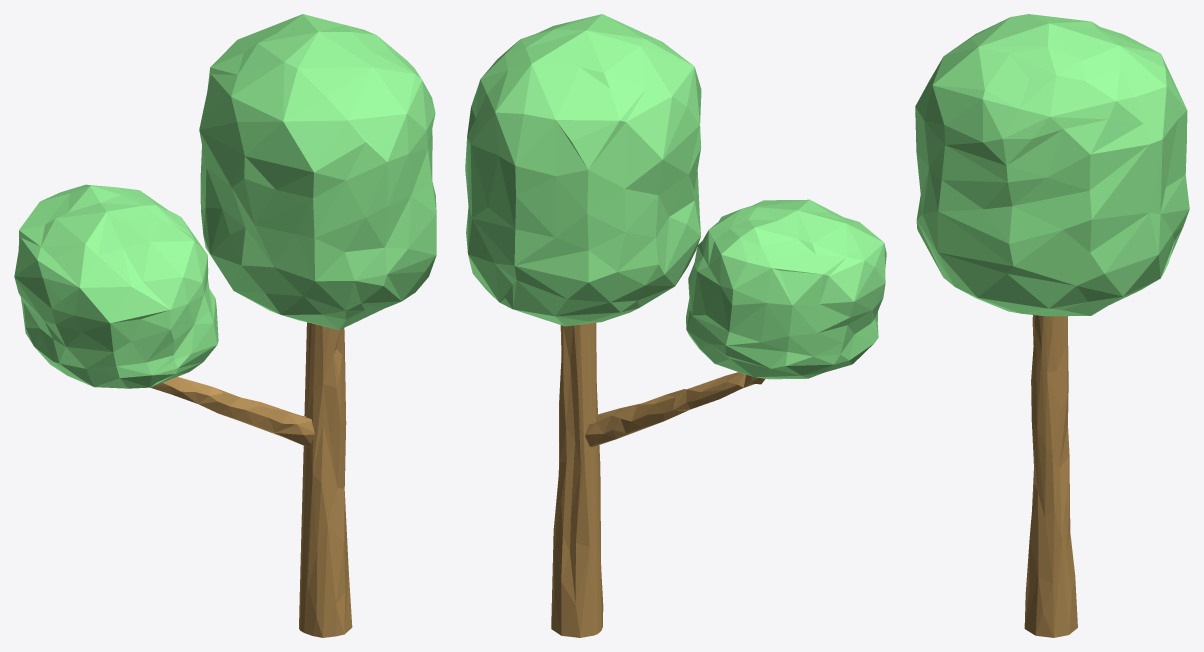
Rendered from pohon1.fbx.
The picture shows the model from 3 angles, left to right: view 1: azimuth 30°, elevation 25°; view 2: azimuth 150°, elevation 25°; view 3: azimuth 270°, elevation 25°; orthographic projection.
Visible parts, largest first — view 1: Cylinder; view 2: Cylinder; view 3: Cylinder.
Part boxes in pixels (x1,y1,x2,y2): Cylinder: (14, 14, 436, 637); Cylinder: (465, 14, 886, 637); Cylinder: (915, 14, 1189, 637).
Bounding box in the file's own units: 544 × 1311 × 886.
